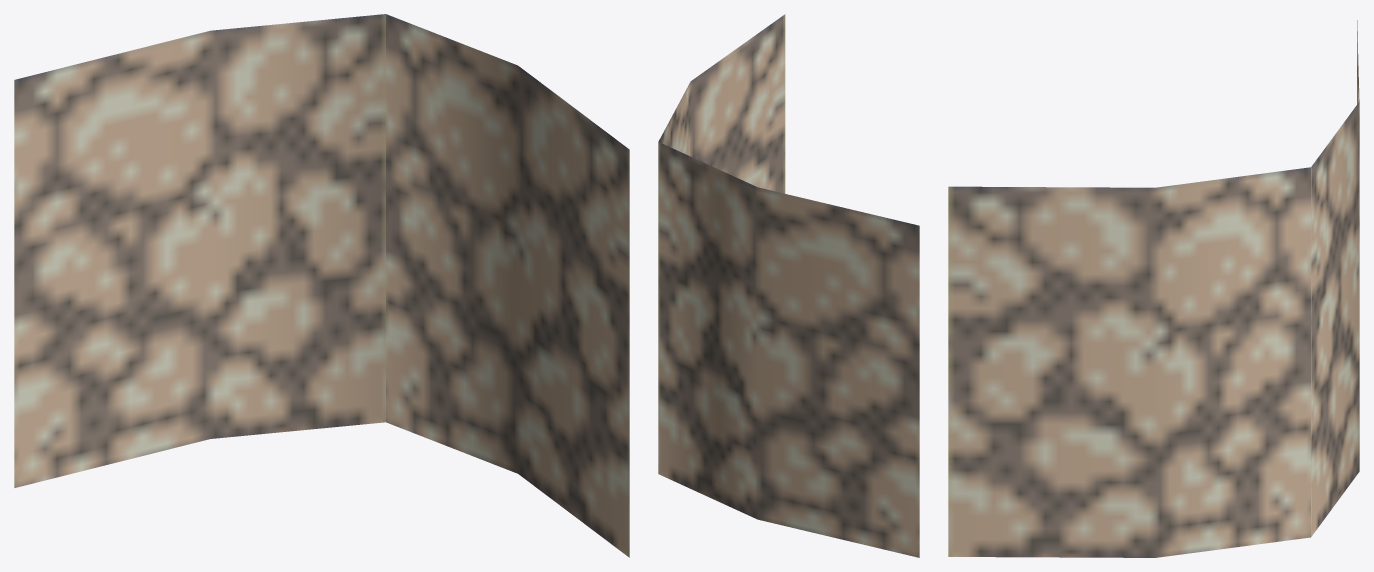
File: sandstoneWall_innerCorner.fbx
3 renders of one model, left to right at view 1: azimuth 30°, elevation 25°; view 2: azimuth 150°, elevation 25°; view 3: azimuth 270°, elevation 25°, orthographic. The views are drawn at different scales.
Visible parts, largest first — view 1: sandstoneWall_innerCorner; view 2: sandstoneWall_innerCorner; view 3: sandstoneWall_innerCorner.
Boxes of the visible parts, bbox=[...] form: sandstoneWall_innerCorner: bbox=[14, 14, 629, 557]; sandstoneWall_innerCorner: bbox=[658, 14, 919, 557]; sandstoneWall_innerCorner: bbox=[948, 20, 1359, 557].
Size of the model in its own units: 1.01 by 1 by 1.01.
